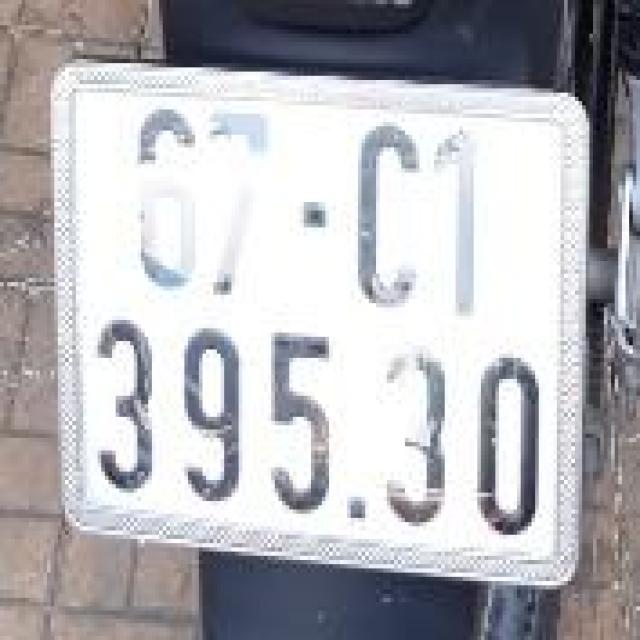0: (450, 328, 559, 552)
1: (430, 110, 496, 324)
3: (81, 301, 161, 499), (374, 343, 450, 533)
5: (251, 303, 342, 535)
6: (118, 99, 205, 288)
7: (202, 93, 278, 303)
9: (174, 322, 242, 512)
C: (338, 105, 425, 312)
